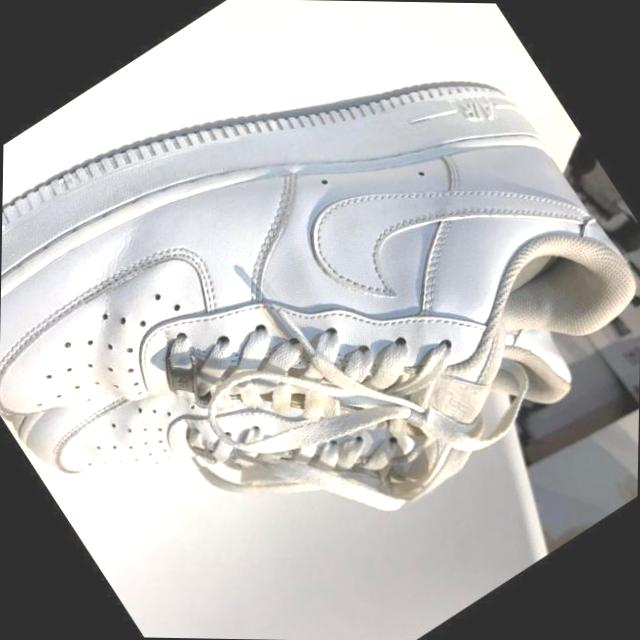nike_fake_jordan: (0, 0, 640, 637), (0, 132, 586, 640)
